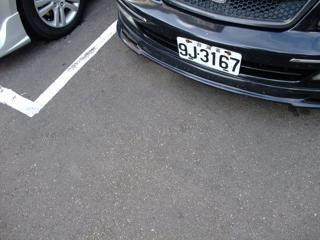plate: (176, 34, 243, 80)
